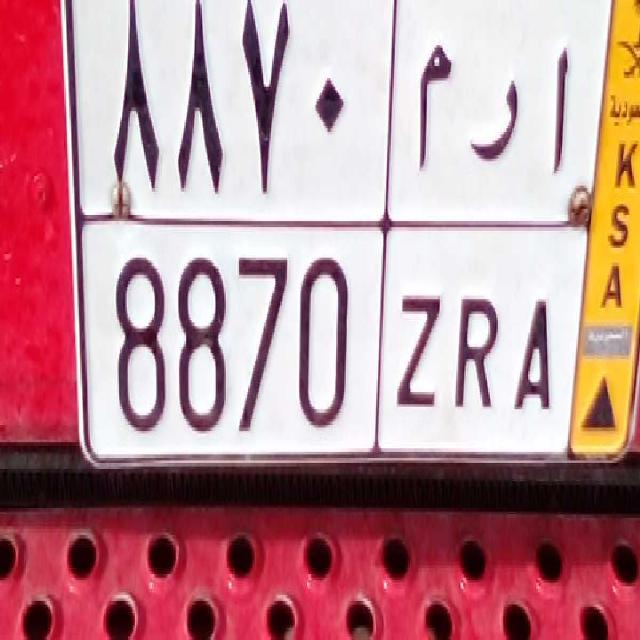license_plate: (96, 218, 571, 448)
